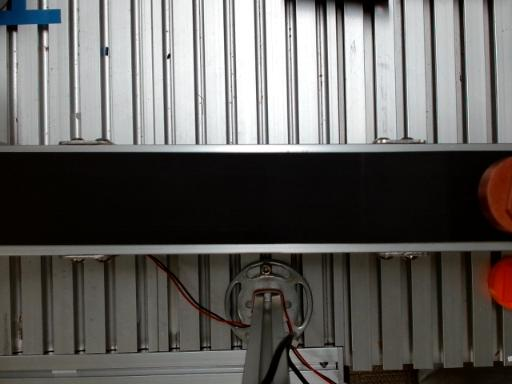Brown_Waper: (478, 157, 511, 233)
